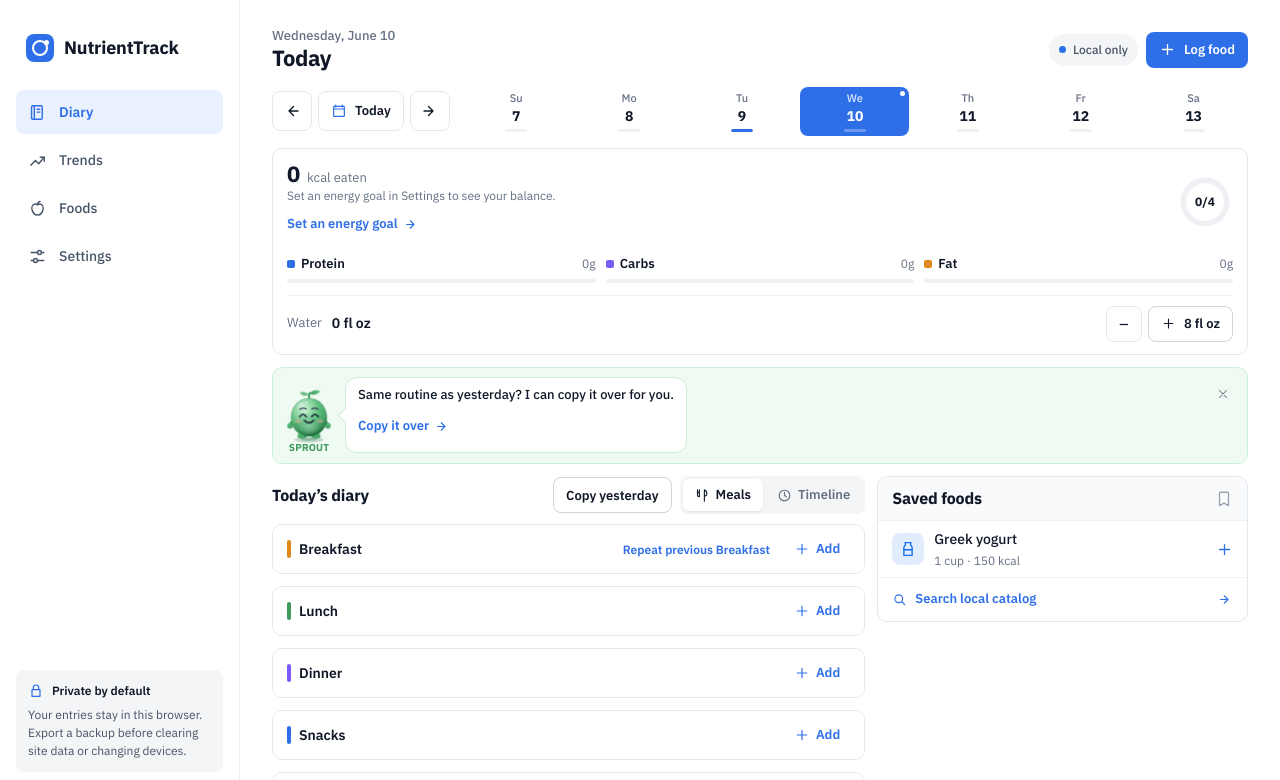
logger search results omit empty groups › shows no recent or saved group when the query matches neither
Click the button "Log food" at (1197, 50), box [1146,32,1248,68]
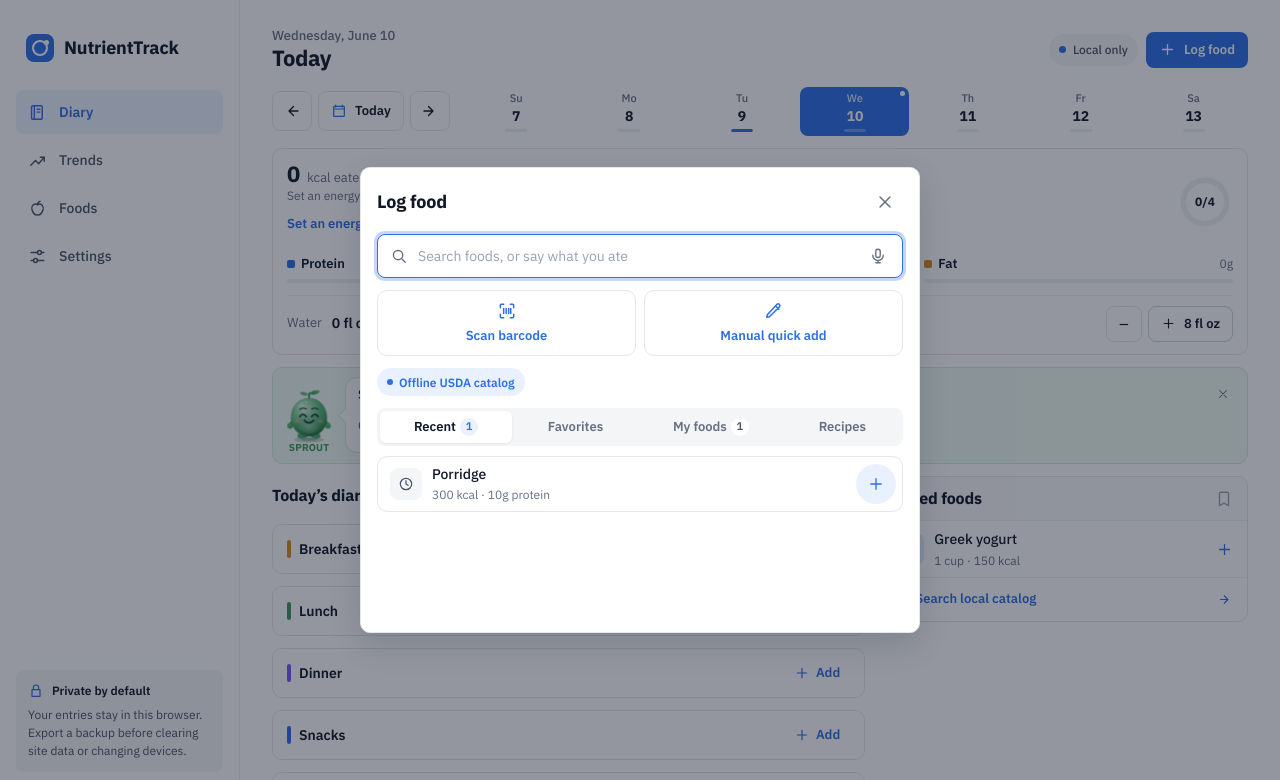
Type "zzzzqq" into the field with placeholder "Search foods, or say what you ate" at (634, 256), box [418,235,850,277]
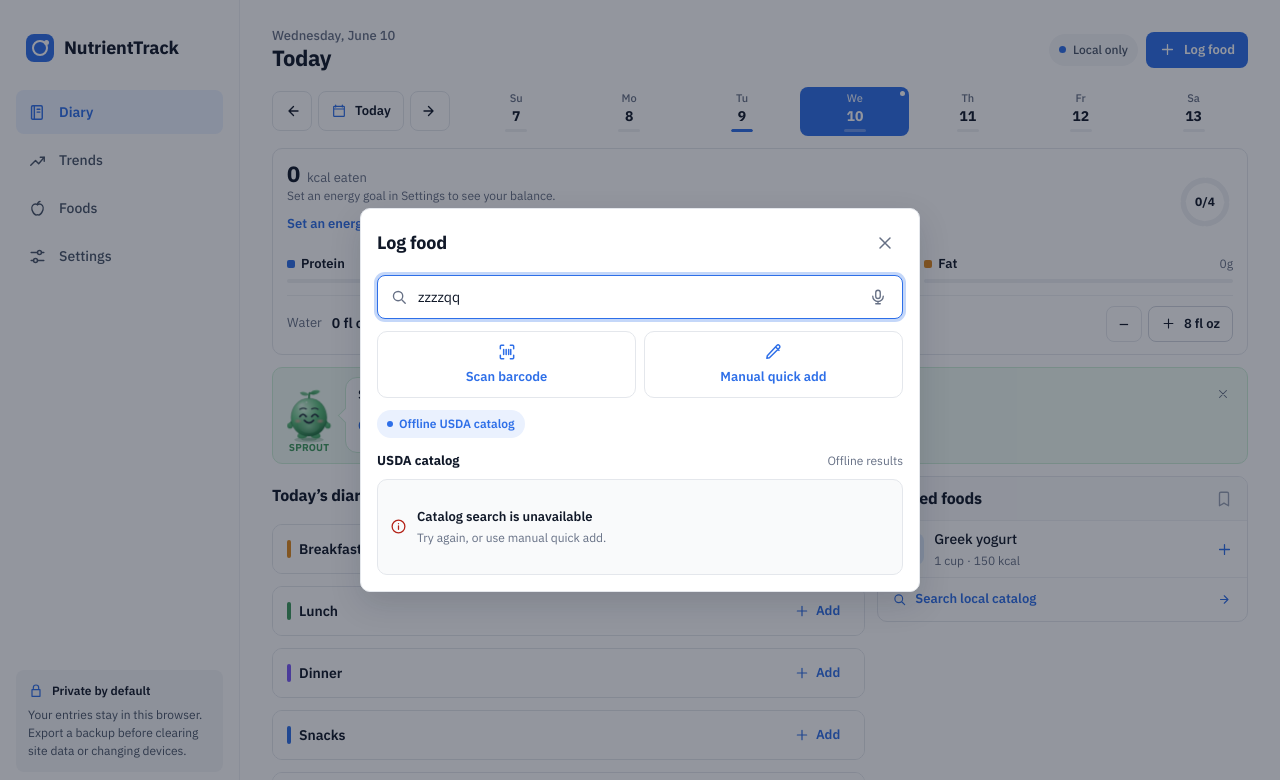
Expected: the text "USDA catalog" is shown, [377,452,460,471]
